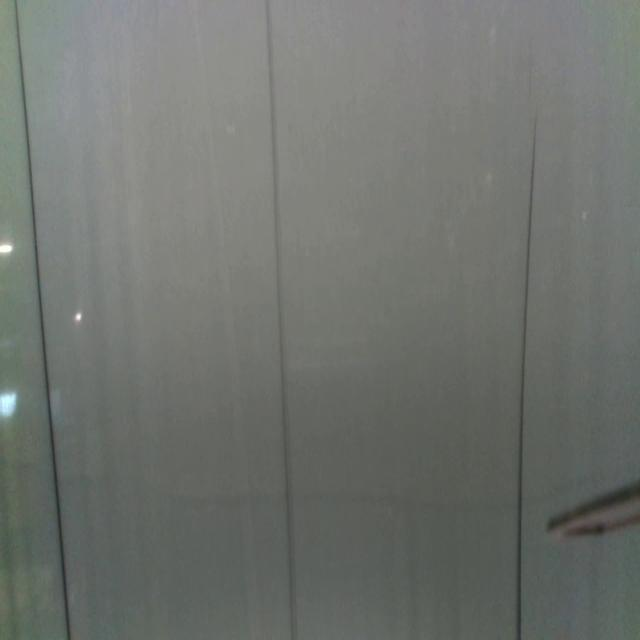color bleeding: (62, 472, 550, 522)
crease: (15, 0, 72, 639), (266, 0, 298, 640), (514, 109, 539, 640)
